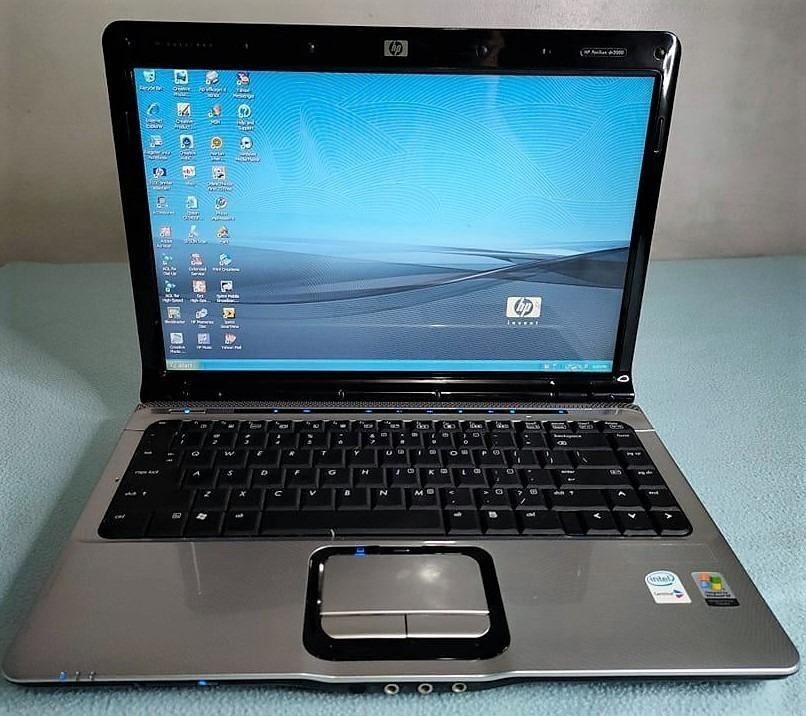laptop: (62, 19, 757, 648)
